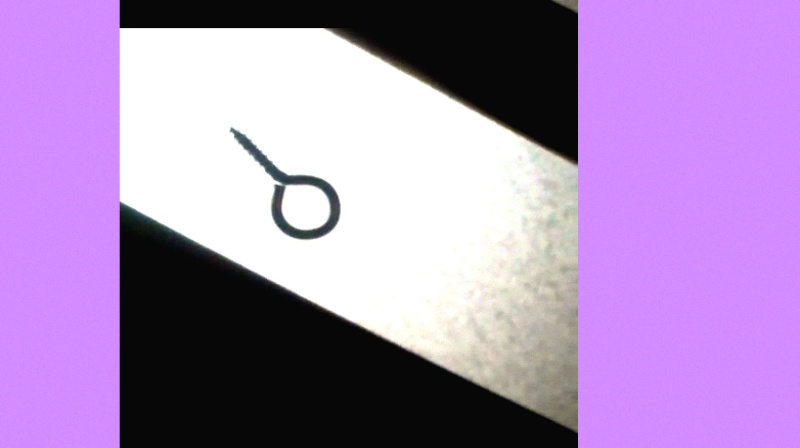O001: (219, 122, 342, 243)
